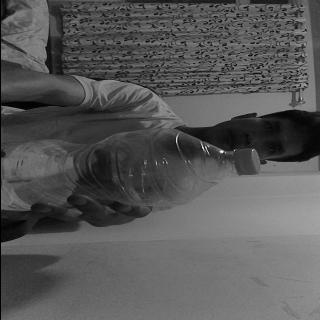plastic_bottles: (0, 128, 262, 208)
